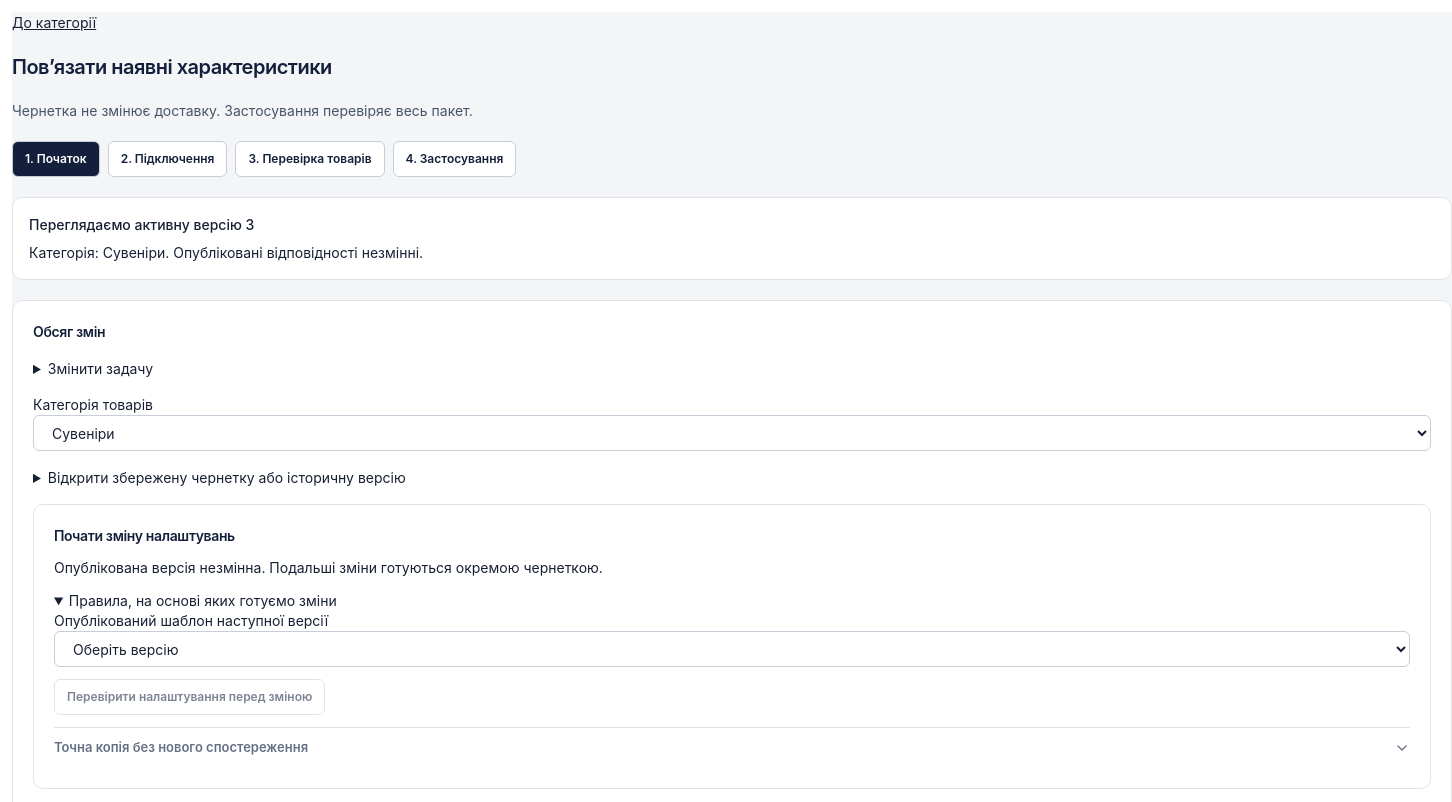
Test: mapping intent skips resource creation and retains exact category while rule intent exposes a distinct rule step
Check: the text "Переглядаємо активну версію 3" is shown, box [29,216,254,233]
Check: the button "2. Підключення" is shown, box [108,141,227,177]
Click the heading "Змінити задачу".
click(100, 368)  # box [48,360,153,377]
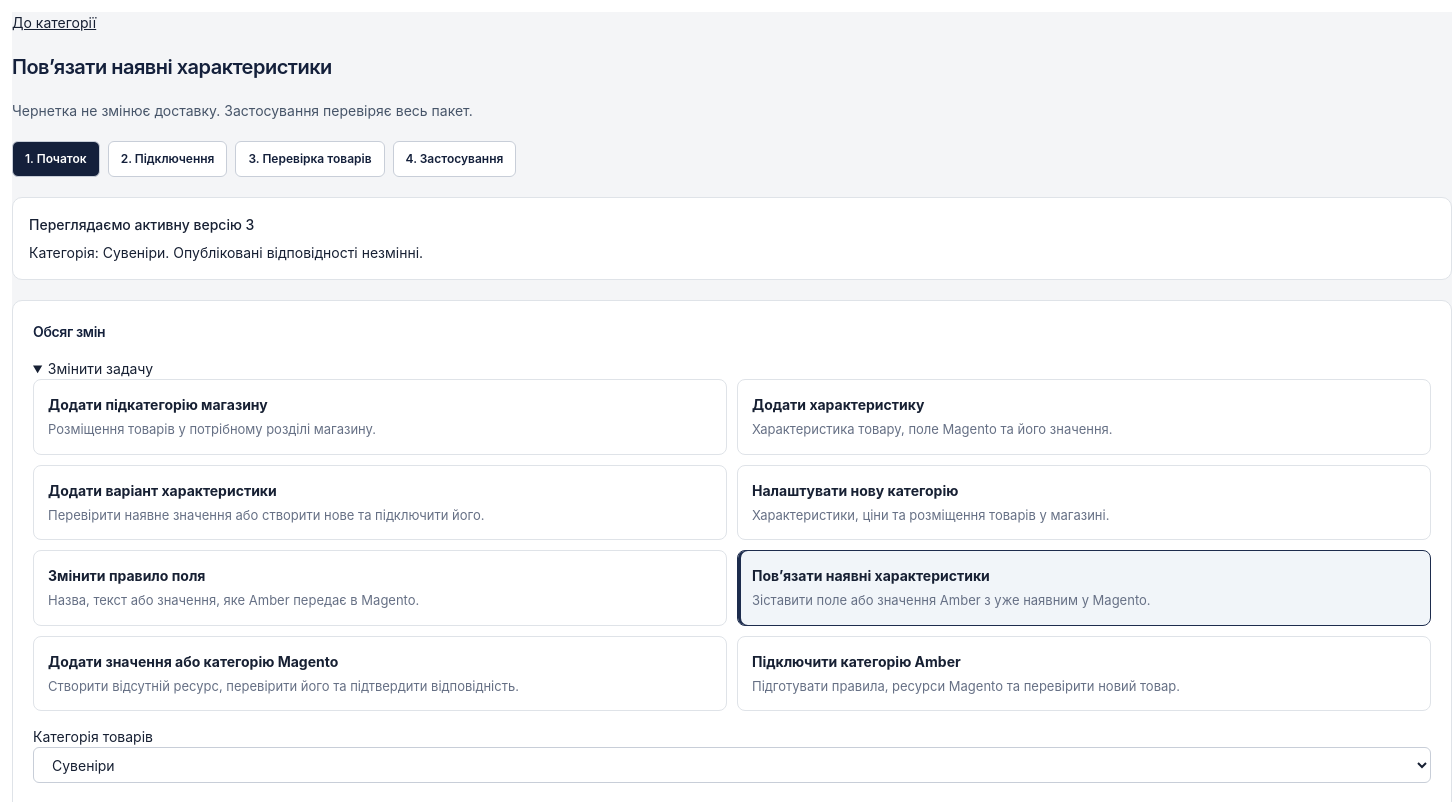
Click the button "Змінити правило поля Назва".
click(127, 576)  # box [33,550,727,626]
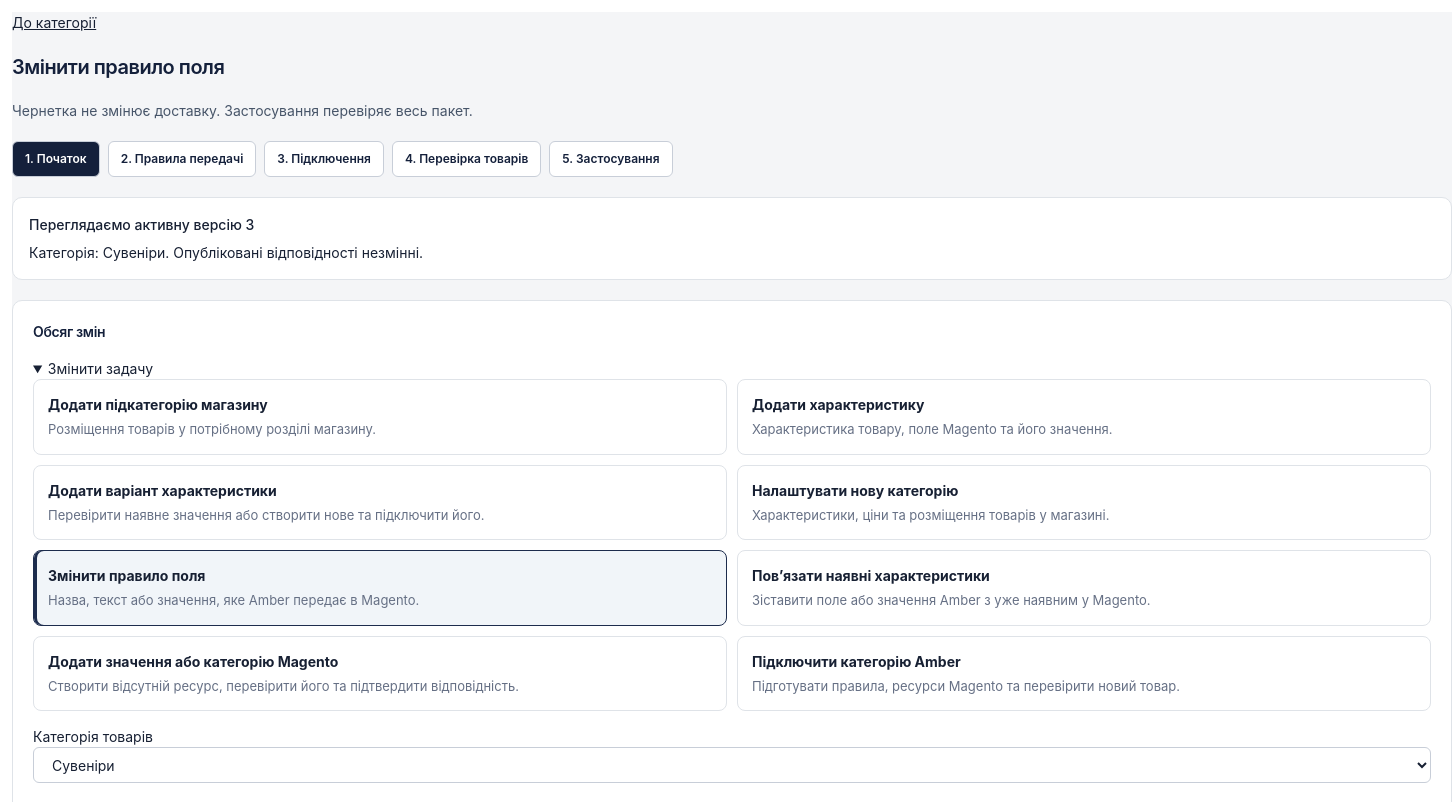
Check: the dropdown labelled "Категорія товарів" shows "Сувеніри", box [33,747,1431,783]
Check: the button "2. Правила передачі" is shown, box [108,141,256,177]
